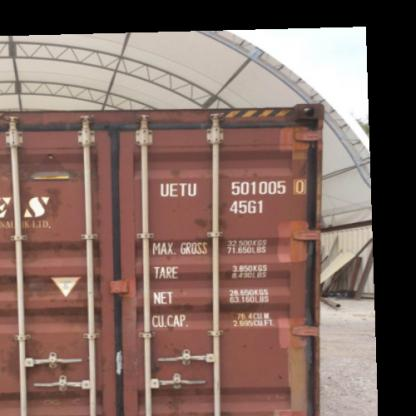Damage: (8, 144, 84, 182), (2, 336, 44, 381), (8, 184, 60, 218), (188, 198, 232, 236)
